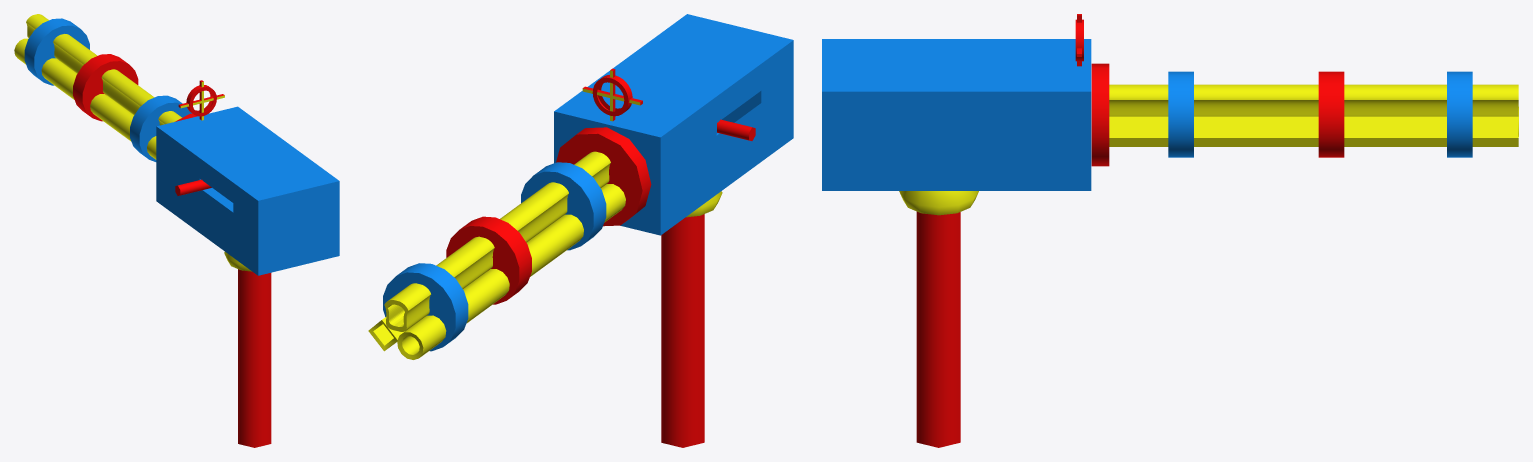
The model's file is Max Launcher.FBX.
3 views of the same model, side by side, from view 1: azimuth 30°, elevation 25°; view 2: azimuth 150°, elevation 25°; view 3: azimuth 270°, elevation 25° (orthographic). The views are drawn at different scales.
Visible parts, largest first — view 1: Gear Box, Barrel, Cylinder001, Circle001, Cylinder002; view 2: Gear Box, Barrel, Cylinder001, Circle001, Cylinder002; view 3: Gear Box, Barrel, Cylinder001, Swivel.
Part boxes in pixels (x1,y1,x2,y2): Gear Box: [156, 106, 339, 275]; Barrel: [14, 14, 196, 161]; Cylinder001: [238, 269, 271, 447]; Circle001: [178, 80, 224, 120]; Cylinder002: [175, 179, 211, 195]; Gear Box: [554, 14, 793, 235]; Barrel: [368, 127, 651, 359]; Cylinder001: [661, 214, 704, 447]; Circle001: [582, 68, 642, 121]; Cylinder002: [717, 119, 755, 140]; Gear Box: [822, 39, 1091, 190]; Barrel: [1091, 63, 1518, 166]; Cylinder001: [916, 211, 960, 447]; Swivel: [899, 191, 978, 215].
Size of the model in its own units: 33.46 by 96.6 by 144.
